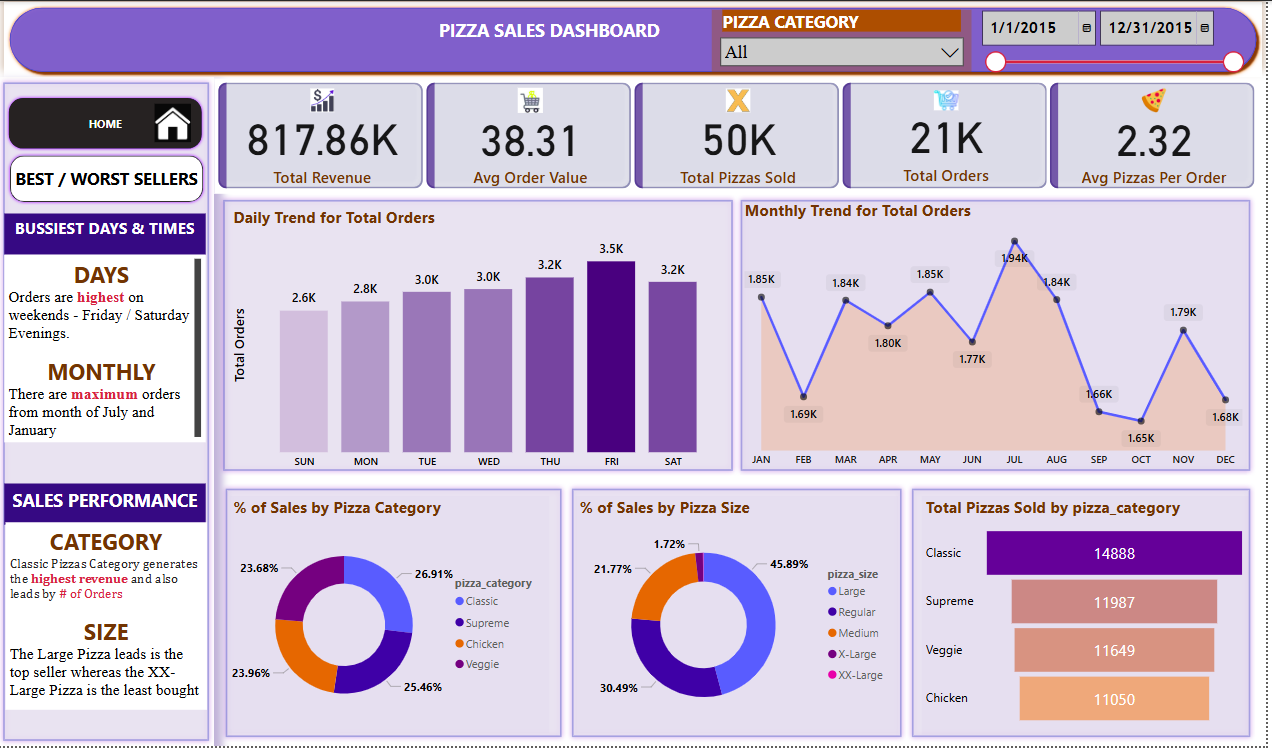

The page's visual inventory and layout, read from the dashboard file:
{"tool":"powerbi","page":{"name":"HOME","canvas":[1530,900],"ordinal":0},"visuals":[{"type":"shape","box":[0,92.1,261.1,807.4],"z":0},{"type":"cardVisual","fields":{"Data":["pizza_sales.Total Revenue","pizza_sales.Avg Order Value","pizza_sales.Total Pizzas Sold","pizza_sales.Total Orders","pizza_sales.Avg Pizzas Per Order"]},"box":[261.1,93.6,1264.6,138.8],"z":1000},{"type":"shape","box":[7.5,1.5,1518.1,90.5],"z":2000},{"type":"textbox","box":[395.4,15.1,540.2,54.3],"z":3000},{"type":"shape","box":[265.6,233.9,627.8,339.5],"z":4000},{"type":"columnChart","title":"Daily Trend for Total Orders","fields":{"Category":["pizza_sales.Order Day"],"Y":["pizza_sales.Total Orders"]},"box":[279.2,247.5,600.6,327.5],"z":5000},{"type":"shape","box":[890.4,233.9,627.8,339.5],"z":6000},{"type":"areaChart","title":"Monthly Trend for Total Orders","fields":{"Y":["pizza_sales.Total Orders"],"Category":["pizza_sales.Order Month"]},"box":[896.4,239.9,611.2,332],"z":7000},{"type":"shape","box":[268.6,582.5,418,312.4],"z":8000},{"type":"shape","box":[686.6,582.5,410.5,312.4],"z":9000},{"type":"shape","box":[1097.1,582.5,421,312.4],"z":10000},{"type":"donutChart","title":"% of Sales by Pizza Category","fields":{"Category":["pizza_sales.pizza_category"],"Y":["pizza_sales.Total Revenue"]},"box":[279.2,597.6,386.3,286.7],"z":11000},{"type":"donutChart","title":"% of Sales by Pizza Size","fields":{"Category":["pizza_sales.pizza_size"],"Y":["pizza_sales.Total Revenue"]},"box":[697.2,597.6,389.3,286.7],"z":12000},{"type":"funnel","fields":{"Y":["pizza_sales.Total Pizzas Sold"],"Category":["pizza_sales.pizza_category"]},"box":[1115.2,597.6,396.9,288.2],"z":13000},{"type":"textbox","box":[7.5,256.5,243,49.8],"z":14000},{"type":"textbox","box":[7.5,582.5,243,49.8],"z":15000},{"type":"textbox","box":[7.5,306.3,243,226.4],"z":16000},{"type":"textbox","box":[9.1,629.3,243,226.4],"z":17000},{"type":"slicer","fields":{"Values":["pizza_sales.pizza_category"]},"box":[861.7,10.6,313.9,75.5],"z":18000},{"type":"slicer","fields":{"Values":["pizza_sales.order_date"]},"box":[1175.6,1.5,336.5,88],"z":19000},{"type":"pageNavigator","box":[9.1,113.2,241.5,69.4],"z":19001},{"type":"pageNavigator","box":[10.6,182.6,241.5,64.9],"z":19002},{"type":"image","box":[182.6,119.2,57.3,55.8],"z":19003}]}

Visuals, with their boxes in screenshot pixels (x1, y1, x2, y2), scaled from the page's 1530x900 canvas onto the 1272x753 screenshot:
shape: x1=0 y1=77 x2=217 y2=752
cardVisual - pizza_sales.Total Revenue x pizza_sales.Avg Order Value: x1=217 y1=78 x2=1268 y2=194
shape: x1=6 y1=1 x2=1268 y2=77
textbox: x1=329 y1=13 x2=778 y2=58
shape: x1=221 y1=196 x2=743 y2=480
"Daily Trend for Total Orders" columnChart: x1=232 y1=207 x2=731 y2=481
shape: x1=740 y1=196 x2=1262 y2=480
"Monthly Trend for Total Orders" areaChart: x1=745 y1=201 x2=1253 y2=478
shape: x1=223 y1=487 x2=571 y2=749
shape: x1=571 y1=487 x2=912 y2=749
shape: x1=912 y1=487 x2=1262 y2=749
"% of Sales by Pizza Category" donutChart: x1=232 y1=500 x2=553 y2=740
"% of Sales by Pizza Size" donutChart: x1=580 y1=500 x2=903 y2=740
funnel - pizza_sales.Total Pizzas Sold x pizza_sales.pizza_category: x1=927 y1=500 x2=1257 y2=741
textbox: x1=6 y1=215 x2=208 y2=256
textbox: x1=6 y1=487 x2=208 y2=529
textbox: x1=6 y1=256 x2=208 y2=446
textbox: x1=8 y1=527 x2=210 y2=716
slicer - pizza_sales.pizza_category: x1=716 y1=9 x2=977 y2=72
slicer - pizza_sales.order_date: x1=977 y1=1 x2=1257 y2=75
pageNavigator: x1=8 y1=95 x2=208 y2=153
pageNavigator: x1=9 y1=153 x2=210 y2=207
image: x1=152 y1=100 x2=199 y2=146
